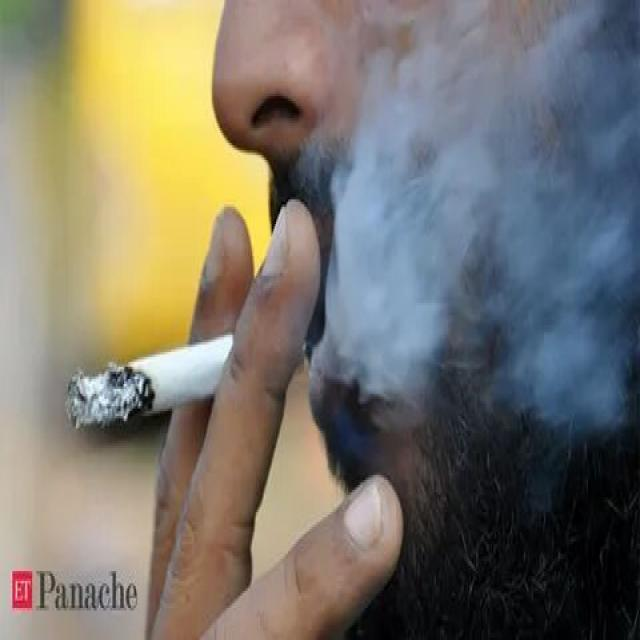cigarette: (61, 322, 239, 433)
